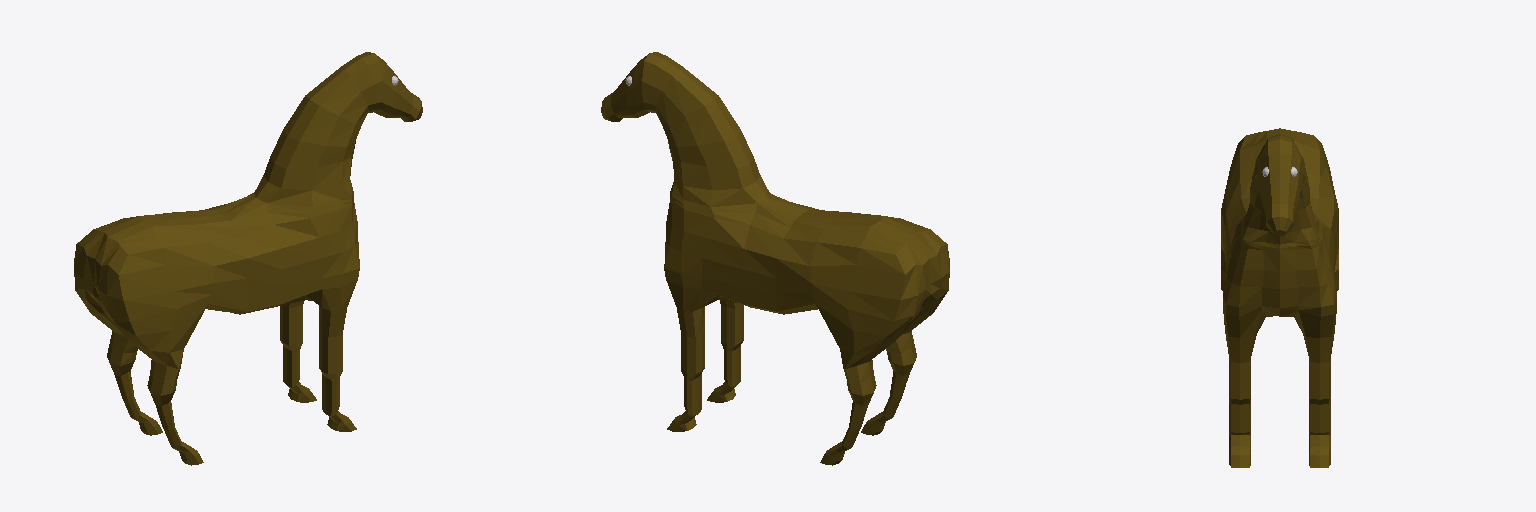
Rendered from horse.obj.
3 views of the same model, side by side, from view 1: azimuth 30°, elevation 25°; view 2: azimuth 150°, elevation 25°; view 3: azimuth 270°, elevation 25° (orthographic).
Visible parts, largest first — view 1: Cube; view 2: Cube; view 3: Cube.
Part boxes in pixels (x1,y1,x2,y2): Cube: (74,52,422,465); Cube: (601,52,949,465); Cube: (1221,128,1338,467).
Bounding box in the file's own units: 10.95 × 11 × 3.37.